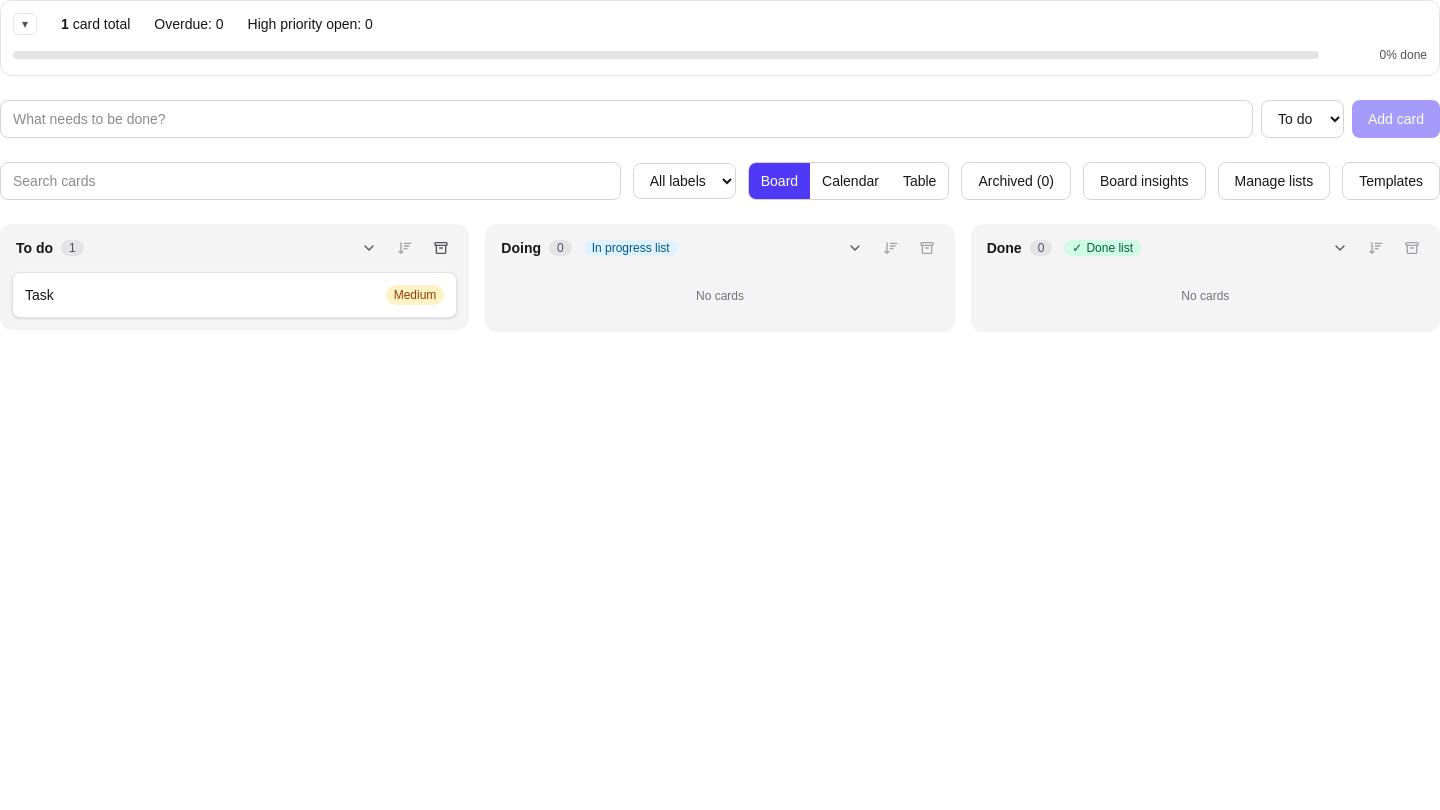
<Board /> custom lists › renames a list and shows the new name in the move buttons
The width and height of the screenshot is (1440, 810).
Click the button "Manage lists". click: coordinates (1274, 181)
box: [1218,162,1330,200]
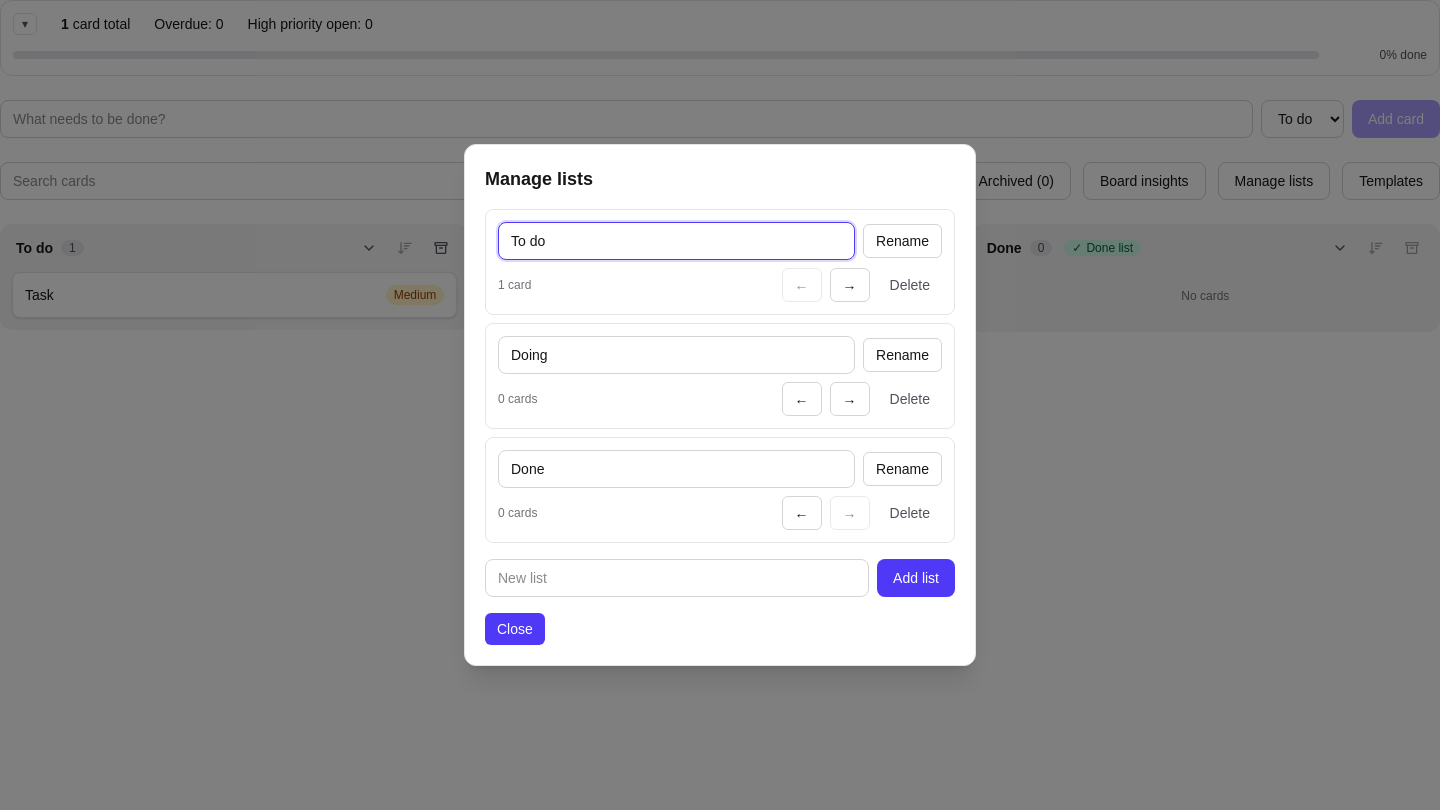
Replace the text in the field named "Name of list \"To do\"" with "Backlog". click: coordinates (677, 241)
box: [498,222,855,260]
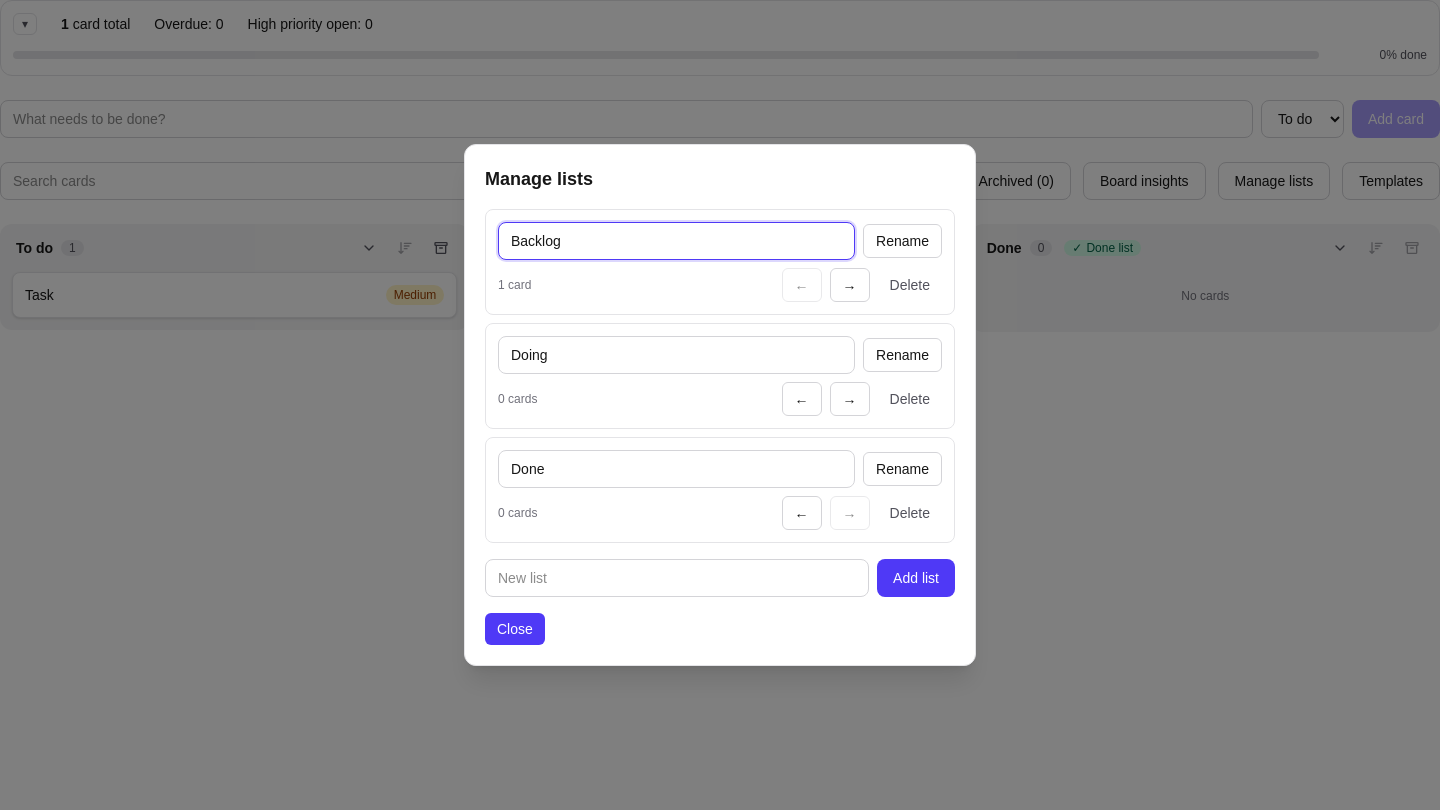
Click the button named "Rename list \"To do\"". click: coordinates (903, 241)
box: [863,224,942,258]
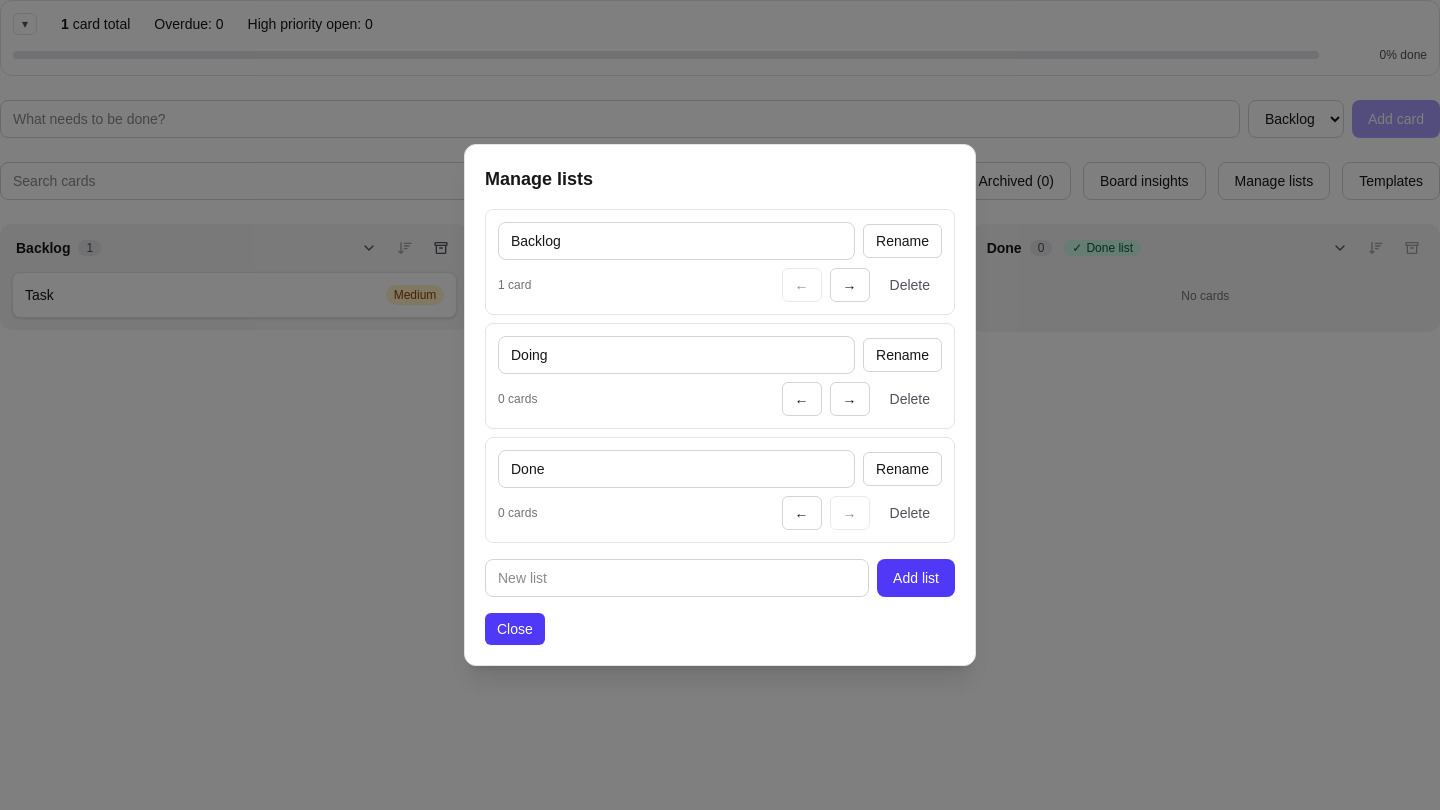
Expected: the field named "Name of list \"Backlog\"" is shown, [498,222,855,260]
